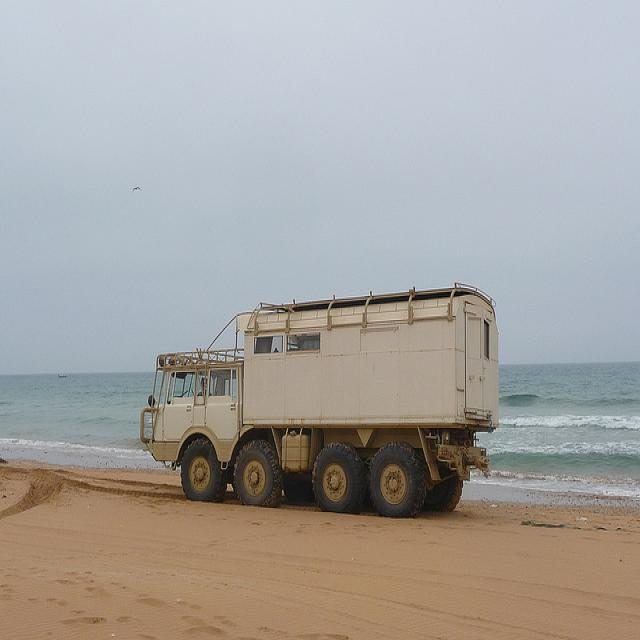Vehicle: (140, 283, 500, 516)
